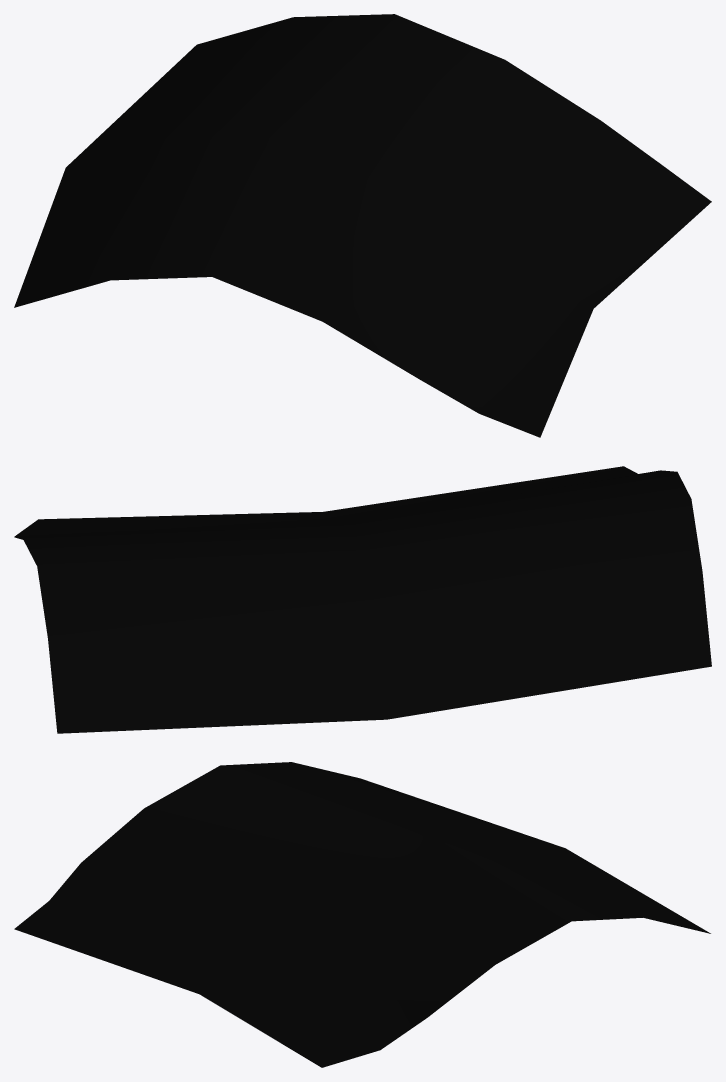
The model's file is HTOWN01_TREESHADOWS22.fbx.
The picture shows the model from 3 angles, top to bottom: view 1: azimuth 30°, elevation 25°; view 2: azimuth 150°, elevation 25°; view 3: azimuth 270°, elevation 25°; orthographic projection. The views are drawn at different scales.
Visible parts, largest first — view 1: HTOWN01_TREESHADOWS22; view 2: HTOWN01_TREESHADOWS22; view 3: HTOWN01_TREESHADOWS22.
Part boxes in pixels (left/top/right/bottom): HTOWN01_TREESHADOWS22: left=14, top=14, right=711, bottom=437; HTOWN01_TREESHADOWS22: left=14, top=466, right=711, bottom=733; HTOWN01_TREESHADOWS22: left=14, top=762, right=710, bottom=1067.
Bounding box in the file's own units: 209792 × 33532 × 239910.
Materials: 1 (1 with a texture image).
